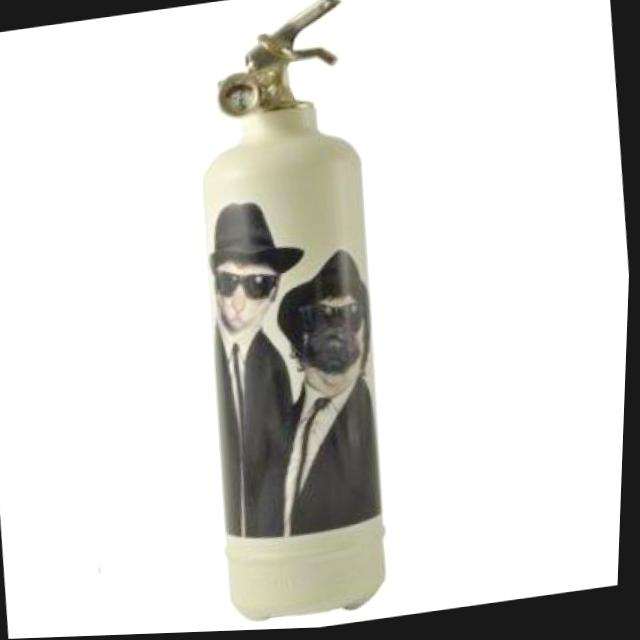FireExtinguisher: (161, 0, 421, 635)
